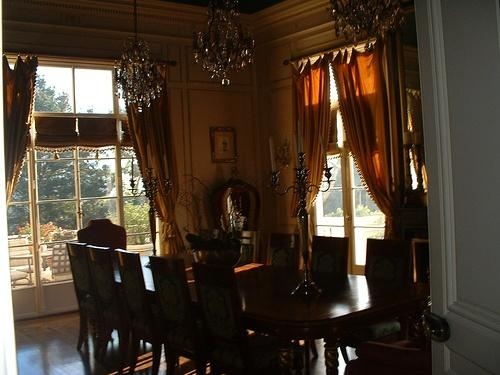chair: (190, 261, 282, 375), (147, 257, 210, 372), (112, 248, 166, 375), (86, 245, 129, 374), (67, 243, 103, 359), (347, 327, 429, 375), (362, 237, 414, 280), (77, 217, 128, 251), (312, 234, 351, 271), (240, 230, 261, 265), (200, 228, 220, 241)
diningtable: (114, 257, 430, 375)
